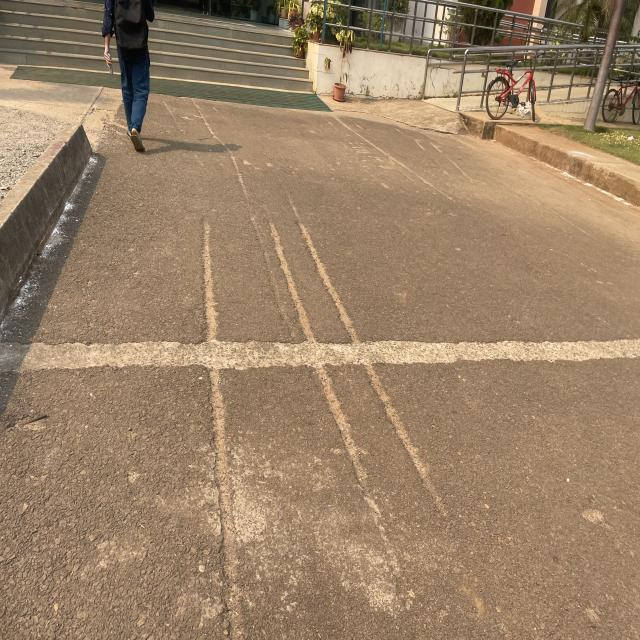D40: (14, 305, 623, 391)
D43: (160, 191, 465, 591)
